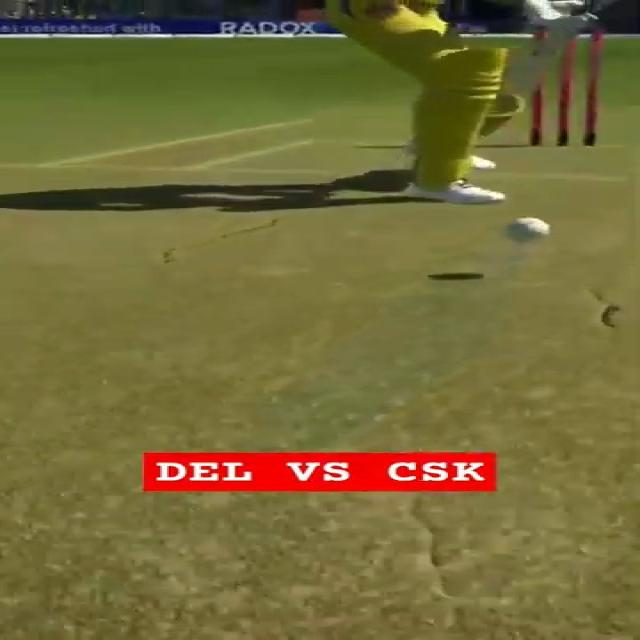ball: (494, 215, 551, 244)
